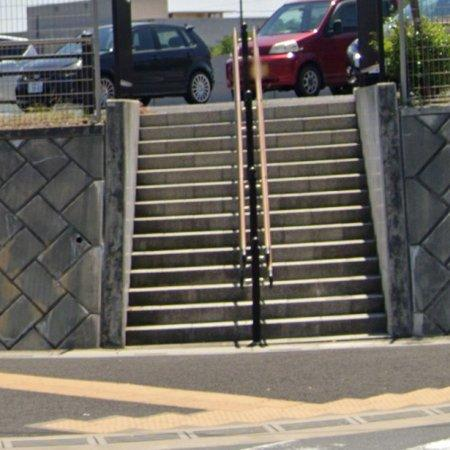stairs: (263, 99, 387, 339), (127, 107, 251, 345)
